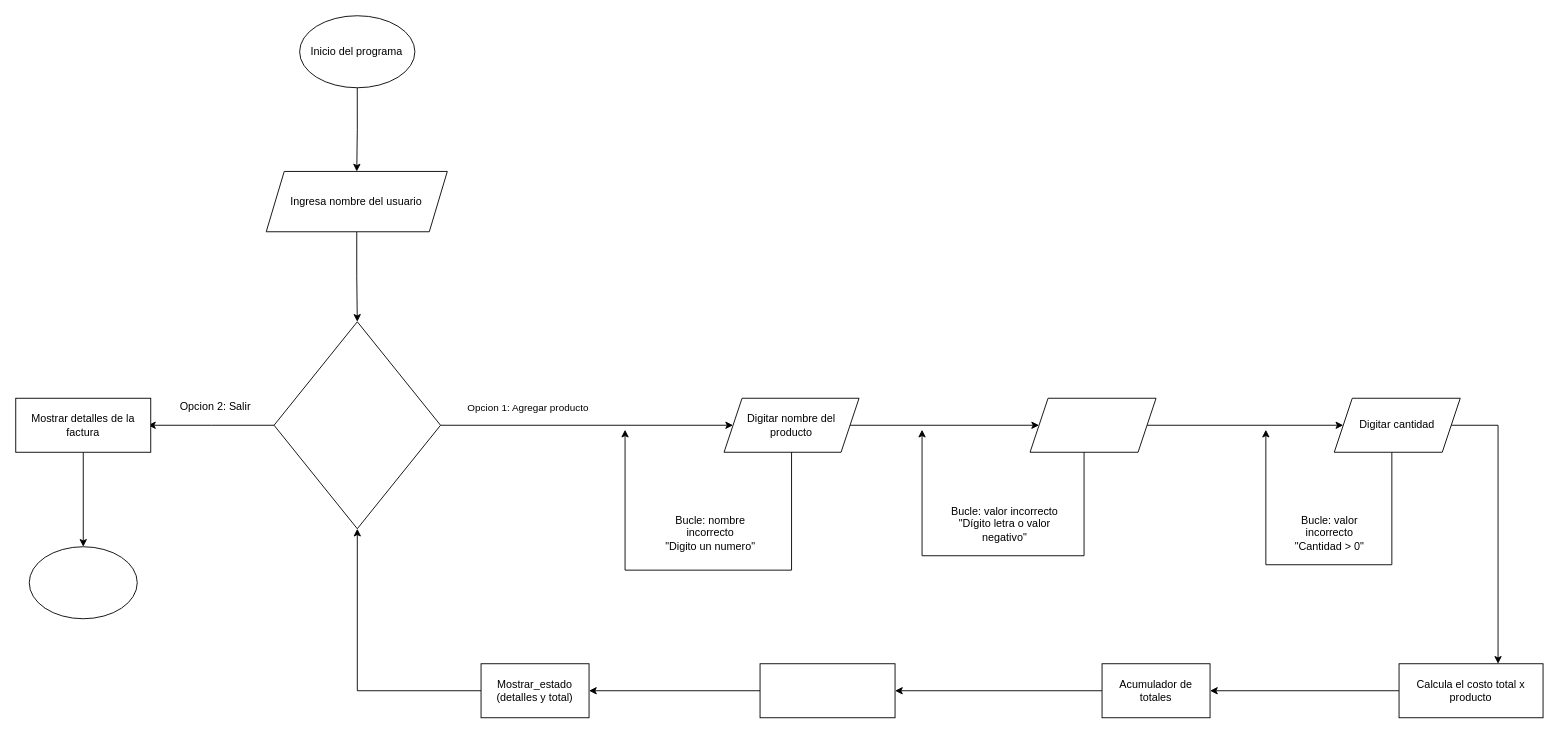
Some shapes in this 1559 by 734 pixel diagram are drawn without their labels. The shapes that lost their labels are listed below. From the top down, each one's centre as x and y in pixels, then its label:
the point at 357,425: Bucle principal: ¿Agregar producto o salir?
the point at 1092,424: Digitar precio del producto
the point at 82,582: Fin del programa
the point at 827,690: Actumula detalles de los productos y totales
